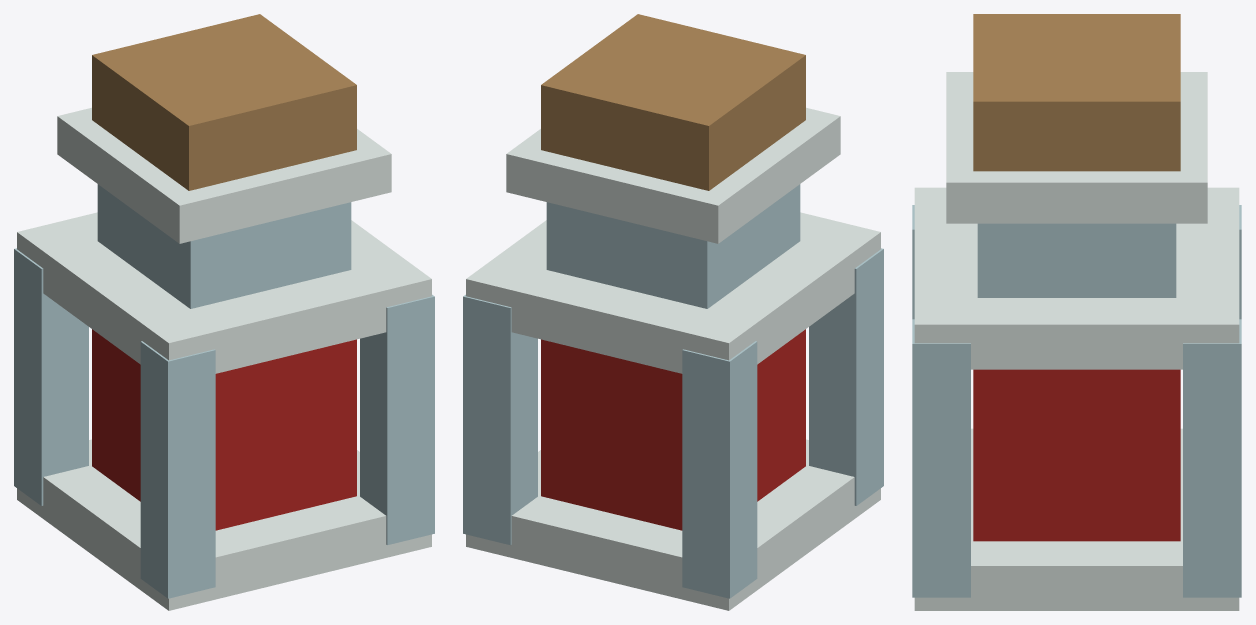
File: potion_red.glb
3 renders of one model, left to right at view 1: azimuth 30°, elevation 25°; view 2: azimuth 150°, elevation 25°; view 3: azimuth 270°, elevation 25°, orthographic. The views are drawn at different scales.
Parts seen in each view (by area): view 1: potion_red; view 2: potion_red; view 3: potion_red.
Boxes of the visible parts, x1,y1,x2,y2 form: potion_red: (14, 14, 434, 610); potion_red: (463, 14, 883, 610); potion_red: (912, 14, 1241, 610).
Size of the model in its own units: 0.365 by 0.5925 by 0.365.
